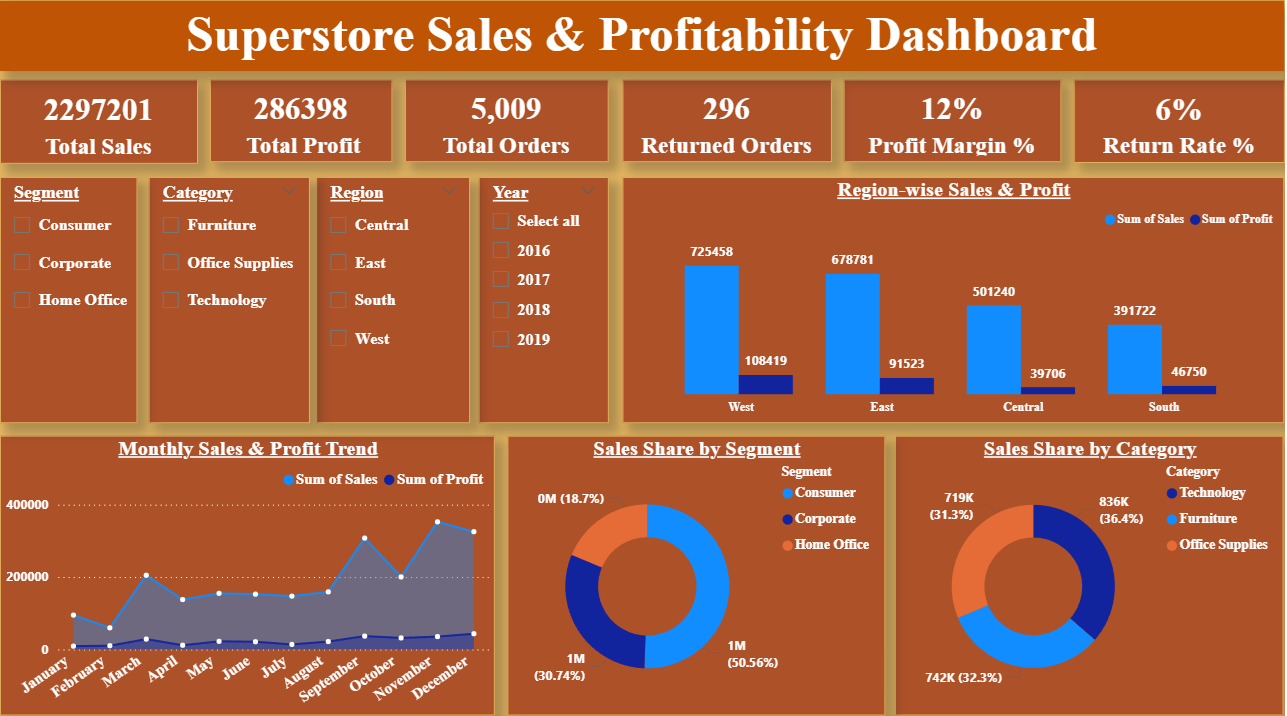

The dashboard page shown, as its layout file describes it:
{"tool":"powerbi","page":{"name":"Page 1","canvas":[1280,720],"ordinal":0},"visuals":[{"type":"card","fields":{"Values":["Sum(superstore_sales orders.Sales)"]},"box":[9.6,85.1,193.5,82.3],"z":0},{"type":"card","fields":{"Values":["Sum(superstore_sales orders.Profit)"]},"box":[215.4,85.1,178.4,81],"z":1000},{"type":"card","fields":{"Values":["superstore_sales orders.Total_Orders"]},"box":[406.2,85.1,199,81],"z":2000},{"type":"card","fields":{"Values":["superstore_sales orders.Profit Margin %"]},"box":[835.7,85.1,212.7,81],"z":3000},{"type":"card","fields":{"Values":["superstore_sales orders.Returned_Orders"]},"box":[618.9,85.1,204.5,81],"z":4000},{"type":"card","fields":{"Values":["superstore_sales orders.Return Rate %"]},"box":[1060.2,85.6,206.7,81.9],"z":5000},{"type":"lineChart","title":"Monthly Sales & Profit Trend","fields":{"Category":["superstore_sales orders.Order Date.Variation.Date Hierarchy.Month"],"Y":["Sum(superstore_sales orders.Sales)","Sum(superstore_sales orders.Profit)"]},"box":[9.8,434.1,484.2,273.9],"z":6000},{"type":"slicer","fields":{"Values":["superstore_sales orders.Order Date.Variation.Date Hierarchy.Year"]},"box":[478.1,181,127.2,240.9],"z":7000},{"type":"clusteredColumnChart","title":"Region-wise Sales & Profit","fields":{"Category":["superstore_sales orders.Region"],"Y":["Sum(superstore_sales orders.Sales)","Sum(superstore_sales orders.Profit)"]},"box":[618.8,181,646.9,240.9],"z":8000},{"type":"donutChart","title":"Sales Share by Category","fields":{"Category":["superstore_sales orders.Category"],"Y":["Sum(superstore_sales orders.Sales)"]},"box":[885.3,434.1,380.3,273.9],"z":9000},{"type":"donutChart","title":"Sales Share by Segment","fields":{"Y":["Sum(superstore_sales orders.Sales)"],"Category":["superstore_sales orders.Segment"]},"box":[506.3,434.1,369.3,273.9],"z":10000},{"type":"textbox","box":[9.8,8.6,1255.8,68.5],"z":11000},{"type":"slicer","fields":{"Values":["superstore_sales orders.Region"]},"box":[319.2,181,150.4,240.9],"z":12000},{"type":"slicer","fields":{"Values":["superstore_sales orders.Category"]},"box":[155.3,181,157.7,240.9],"z":13000},{"type":"slicer","fields":{"Values":["superstore_sales orders.Segment"]},"box":[9.8,181,134.5,240.9],"z":14000}]}

Visuals, with their boxes in screenshot pixels (x1, y1, x2, y2), scaled from the page's 1280x720 canvas onto the 1287x716 screenshot:
card - Sum(superstore_sales orders.Sales): bbox(10, 85, 204, 166)
card - Sum(superstore_sales orders.Profit): bbox(217, 85, 396, 165)
card - superstore_sales orders.Total_Orders: bbox(408, 85, 609, 165)
card - superstore_sales orders.Profit Margin %: bbox(840, 85, 1054, 165)
card - superstore_sales orders.Returned_Orders: bbox(622, 85, 828, 165)
card - superstore_sales orders.Return Rate %: bbox(1066, 85, 1274, 167)
"Monthly Sales & Profit Trend" lineChart: bbox(10, 432, 497, 704)
slicer - superstore_sales orders.Order Date.Variation.Date Hierarchy.Year: bbox(481, 180, 609, 420)
"Region-wise Sales & Profit" clusteredColumnChart: bbox(622, 180, 1273, 420)
"Sales Share by Category" donutChart: bbox(890, 432, 1273, 704)
"Sales Share by Segment" donutChart: bbox(509, 432, 880, 704)
textbox: bbox(10, 9, 1273, 77)
slicer - superstore_sales orders.Region: bbox(321, 180, 472, 420)
slicer - superstore_sales orders.Category: bbox(156, 180, 315, 420)
slicer - superstore_sales orders.Segment: bbox(10, 180, 145, 420)
